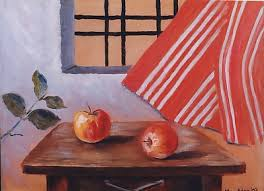apple: (141, 122, 181, 159), (74, 108, 115, 143)
